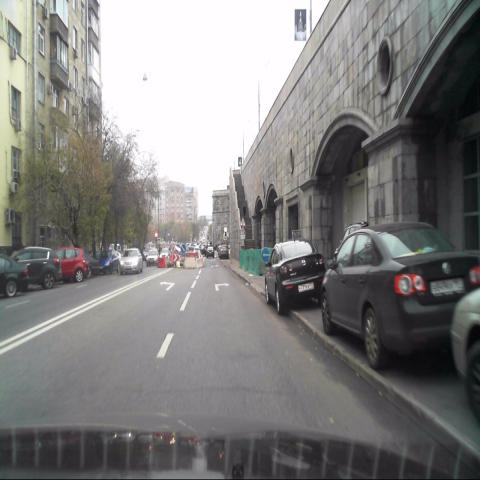4_1_2_2: (260, 246, 270, 263)
